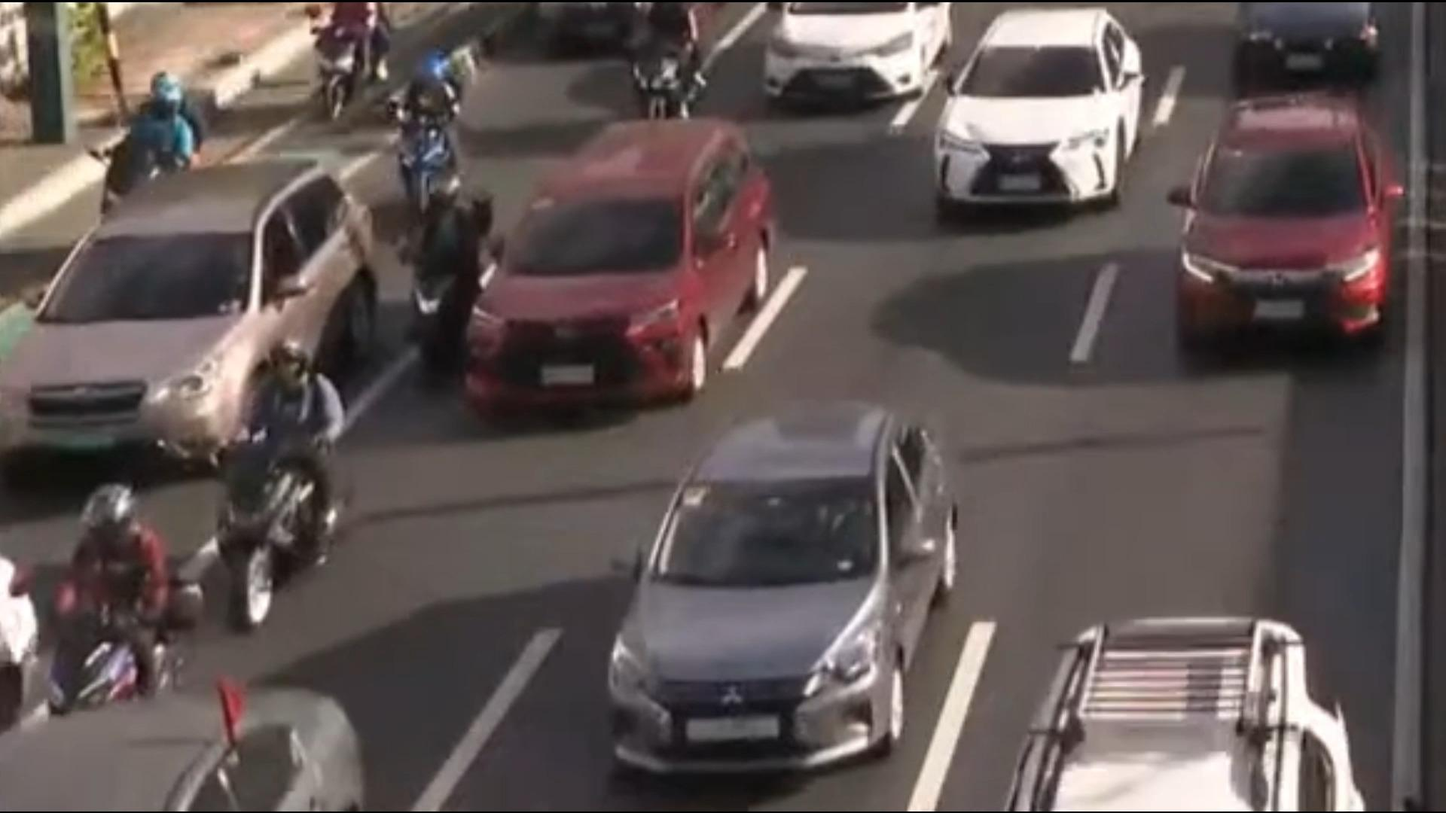Motorcycle: (195, 330, 398, 654), (40, 469, 200, 732), (378, 172, 522, 374), (73, 66, 213, 218), (364, 51, 484, 217), (268, 0, 403, 118), (616, 0, 720, 128)
SUV: (459, 104, 831, 443), (0, 145, 384, 462), (939, 586, 1390, 813)
Sedan: (567, 382, 987, 765), (1144, 79, 1441, 381), (912, 5, 1176, 236), (0, 667, 379, 813)
